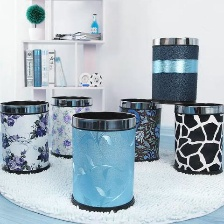book: (53, 30, 101, 45), (22, 47, 36, 88), (47, 47, 60, 88), (54, 55, 69, 89), (32, 47, 43, 89), (39, 48, 50, 88)
bottle: (87, 11, 102, 33)
glass: (69, 109, 137, 213), (146, 31, 201, 108), (169, 101, 223, 176), (0, 98, 53, 174), (116, 95, 163, 163), (48, 93, 95, 159)
